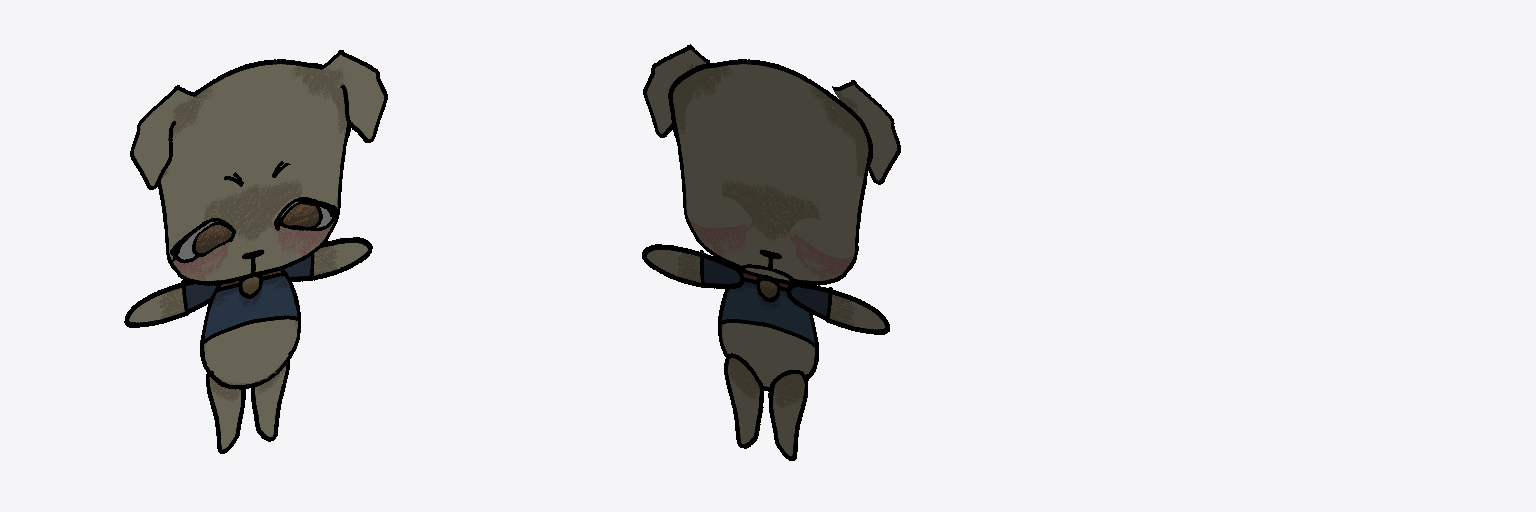
3 renders of one model, left to right at view 1: azimuth 30°, elevation 25°; view 2: azimuth 150°, elevation 25°; view 3: azimuth 270°, elevation 25°, orthographic.
Visible parts, largest first — view 1: geo head, body geo, geo rightEar, geo leftEar, geo leftArm, geo rightArm, geo leftLeg, geo rightLeg, geo rightPupil, geo leftPupil, geo leftEye, geo rightEye; view 2: geo head, body geo, geo rightArm, geo leftArm, geo leftEar, geo leftLeg, geo rightLeg, geo rightEar; view 3: none.
Part boxes in pixels (x1,y1,x2,y2): geo head: (158,59,350,285); body geo: (200,269,300,389); geo rightEar: (321,50,387,142); geo leftEar: (130,85,198,189); geo leftArm: (124,280,215,327); geo rightArm: (284,237,372,281); geo leftLeg: (206,374,245,453); geo rightLeg: (251,361,289,441); geo rightPupil: (280,201,322,230); geo leftPupil: (192,221,234,256); geo leftEye: (170,218,235,263); geo rightEye: (274,197,339,230); geo head: (668,59,872,285); body geo: (718,264,818,391); geo rightArm: (642,244,744,288); geo leftArm: (786,282,889,334); geo leftEar: (832,80,900,184); geo leftLeg: (768,370,807,460); geo rightLeg: (724,353,763,448); geo rightEar: (643,44,709,137).
Bounding box in the file's own units: 31.92 × 46.15 × 2.
1 materials, 1 textured.